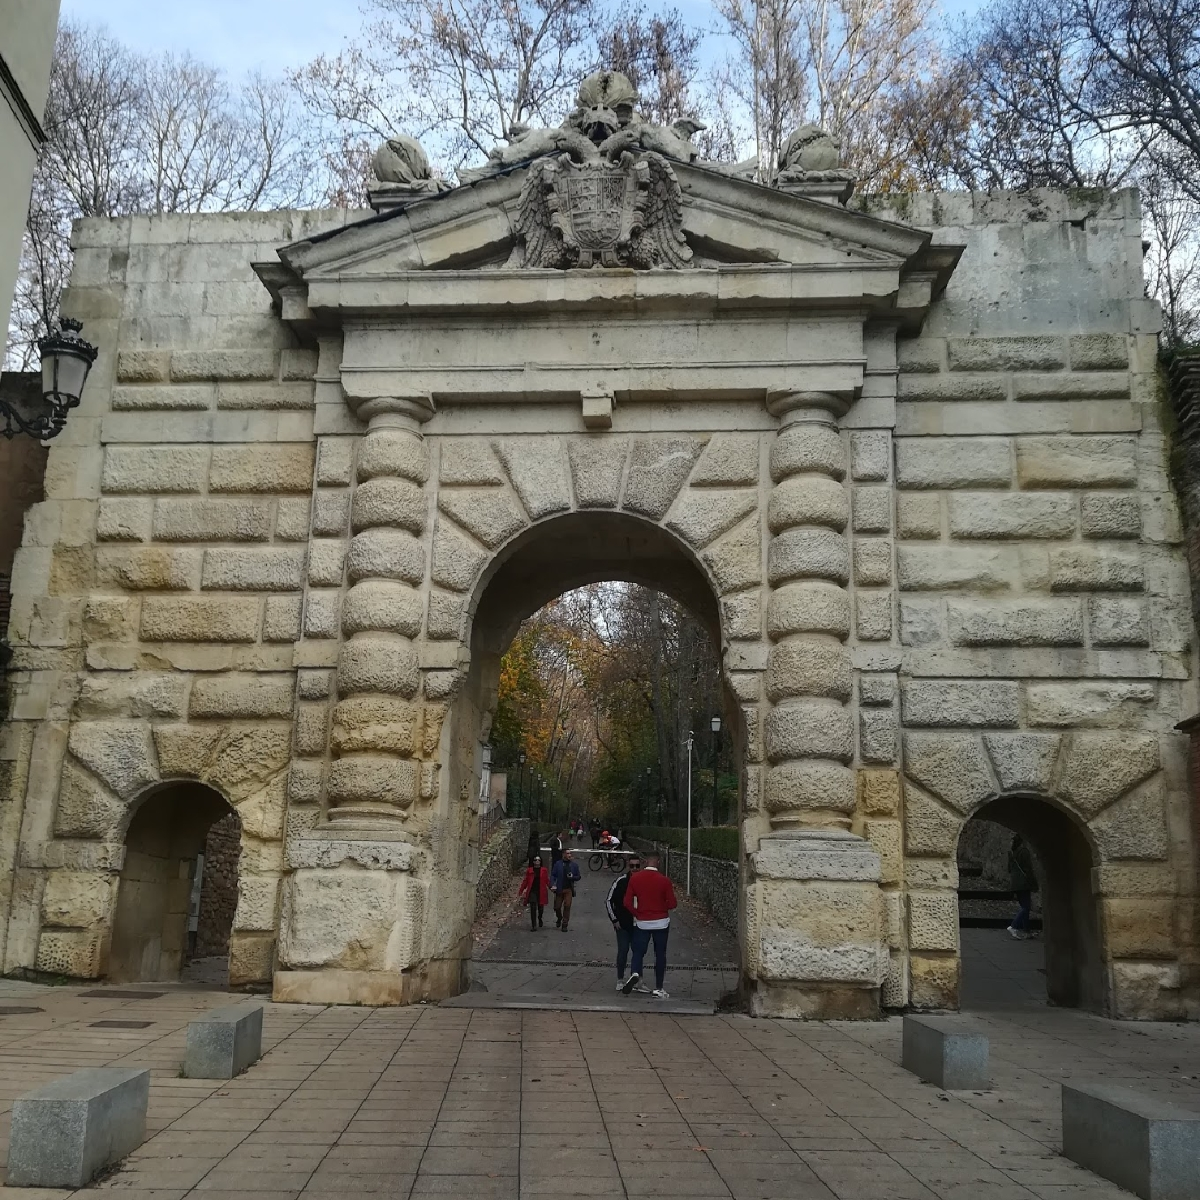arco-medio-punto: (449, 495, 745, 699), (949, 779, 1108, 908), (113, 773, 243, 859)
fronton: (277, 136, 927, 313)
